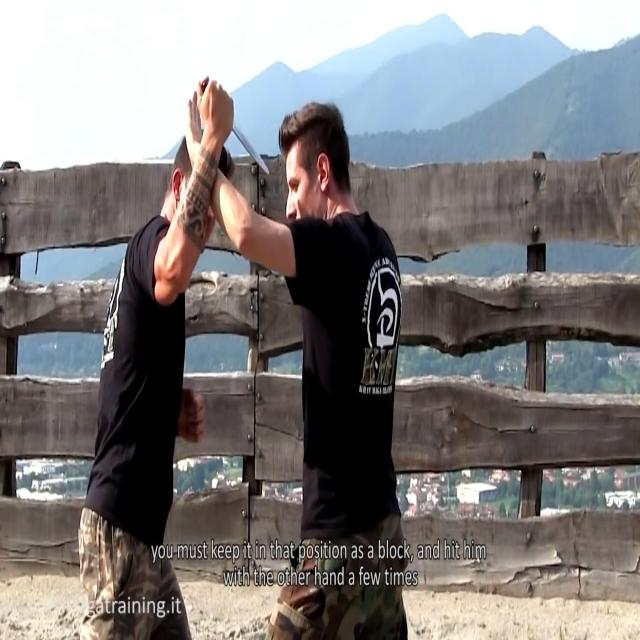knife: (231, 115, 275, 193)
